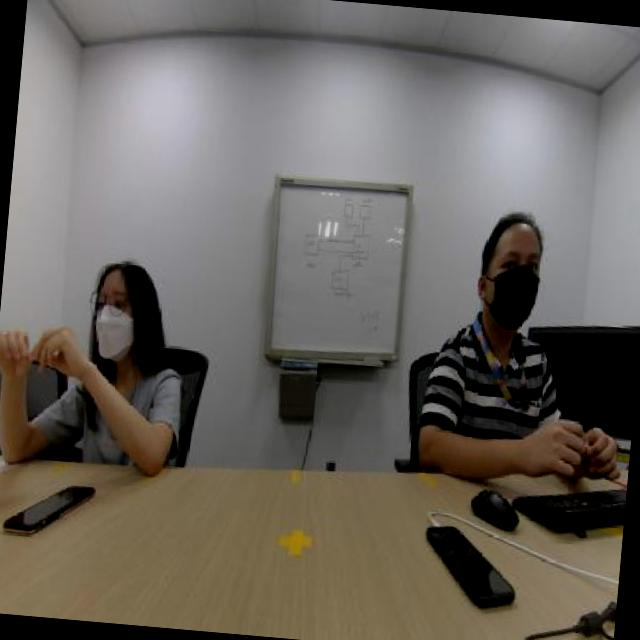Person: (20, 162, 225, 490), (434, 145, 602, 452)
